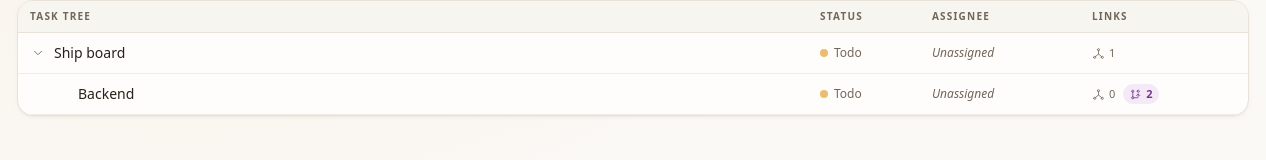
Test: TaskTree › renders decomposition nesting separately from dependency counts
Expected: the button "Ship board" is shown, [54, 43, 125, 63]
Expected: the button "Backend" is shown, [78, 84, 134, 104]
Click the button named "Collapse children". click: (38, 53)
box: [26, 41, 50, 65]
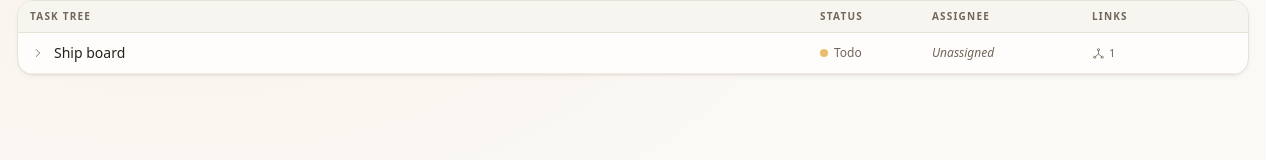
Expected: the button "Backend" is gone
